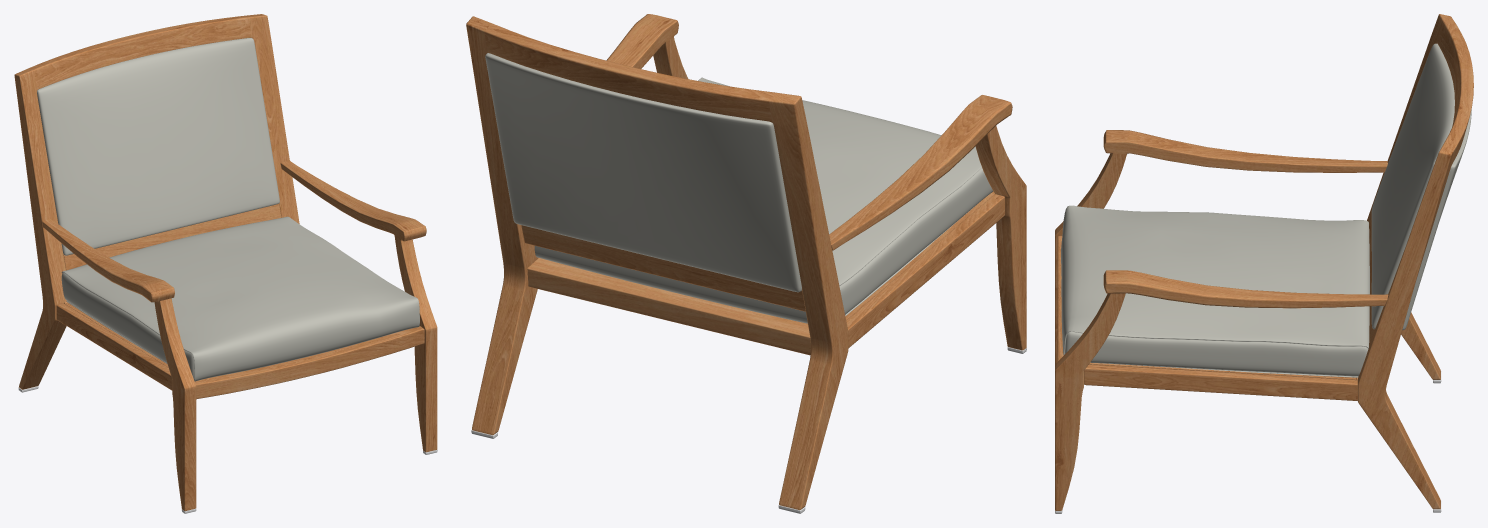
The model's file is wood_chair_test3.glb.
3 views of the same model, side by side, from view 1: azimuth 30°, elevation 25°; view 2: azimuth 150°, elevation 25°; view 3: azimuth 270°, elevation 25° (orthographic). The views are drawn at different scales.
Parts seen in each view (by area): view 1: Porada_Malindi:Box03, Porada_Malindi:objPlane04; view 2: Porada_Malindi:Box03, Porada_Malindi:objPlane04; view 3: Porada_Malindi:Box03, Porada_Malindi:objPlane04.
Boxes of the visible parts, x1,y1,x2,y2 form: Porada_Malindi:Box03: (37, 38, 419, 381); Porada_Malindi:objPlane04: (14, 14, 437, 511); Porada_Malindi:Box03: (485, 53, 993, 323); Porada_Malindi:objPlane04: (466, 14, 1026, 510); Porada_Malindi:Box03: (1061, 43, 1471, 377); Porada_Malindi:objPlane04: (1055, 14, 1473, 510).
Bounding box in the file's own units: 0.2689 × 0.2949 × 0.3102.
Materials: 3 (1 with a texture image).
